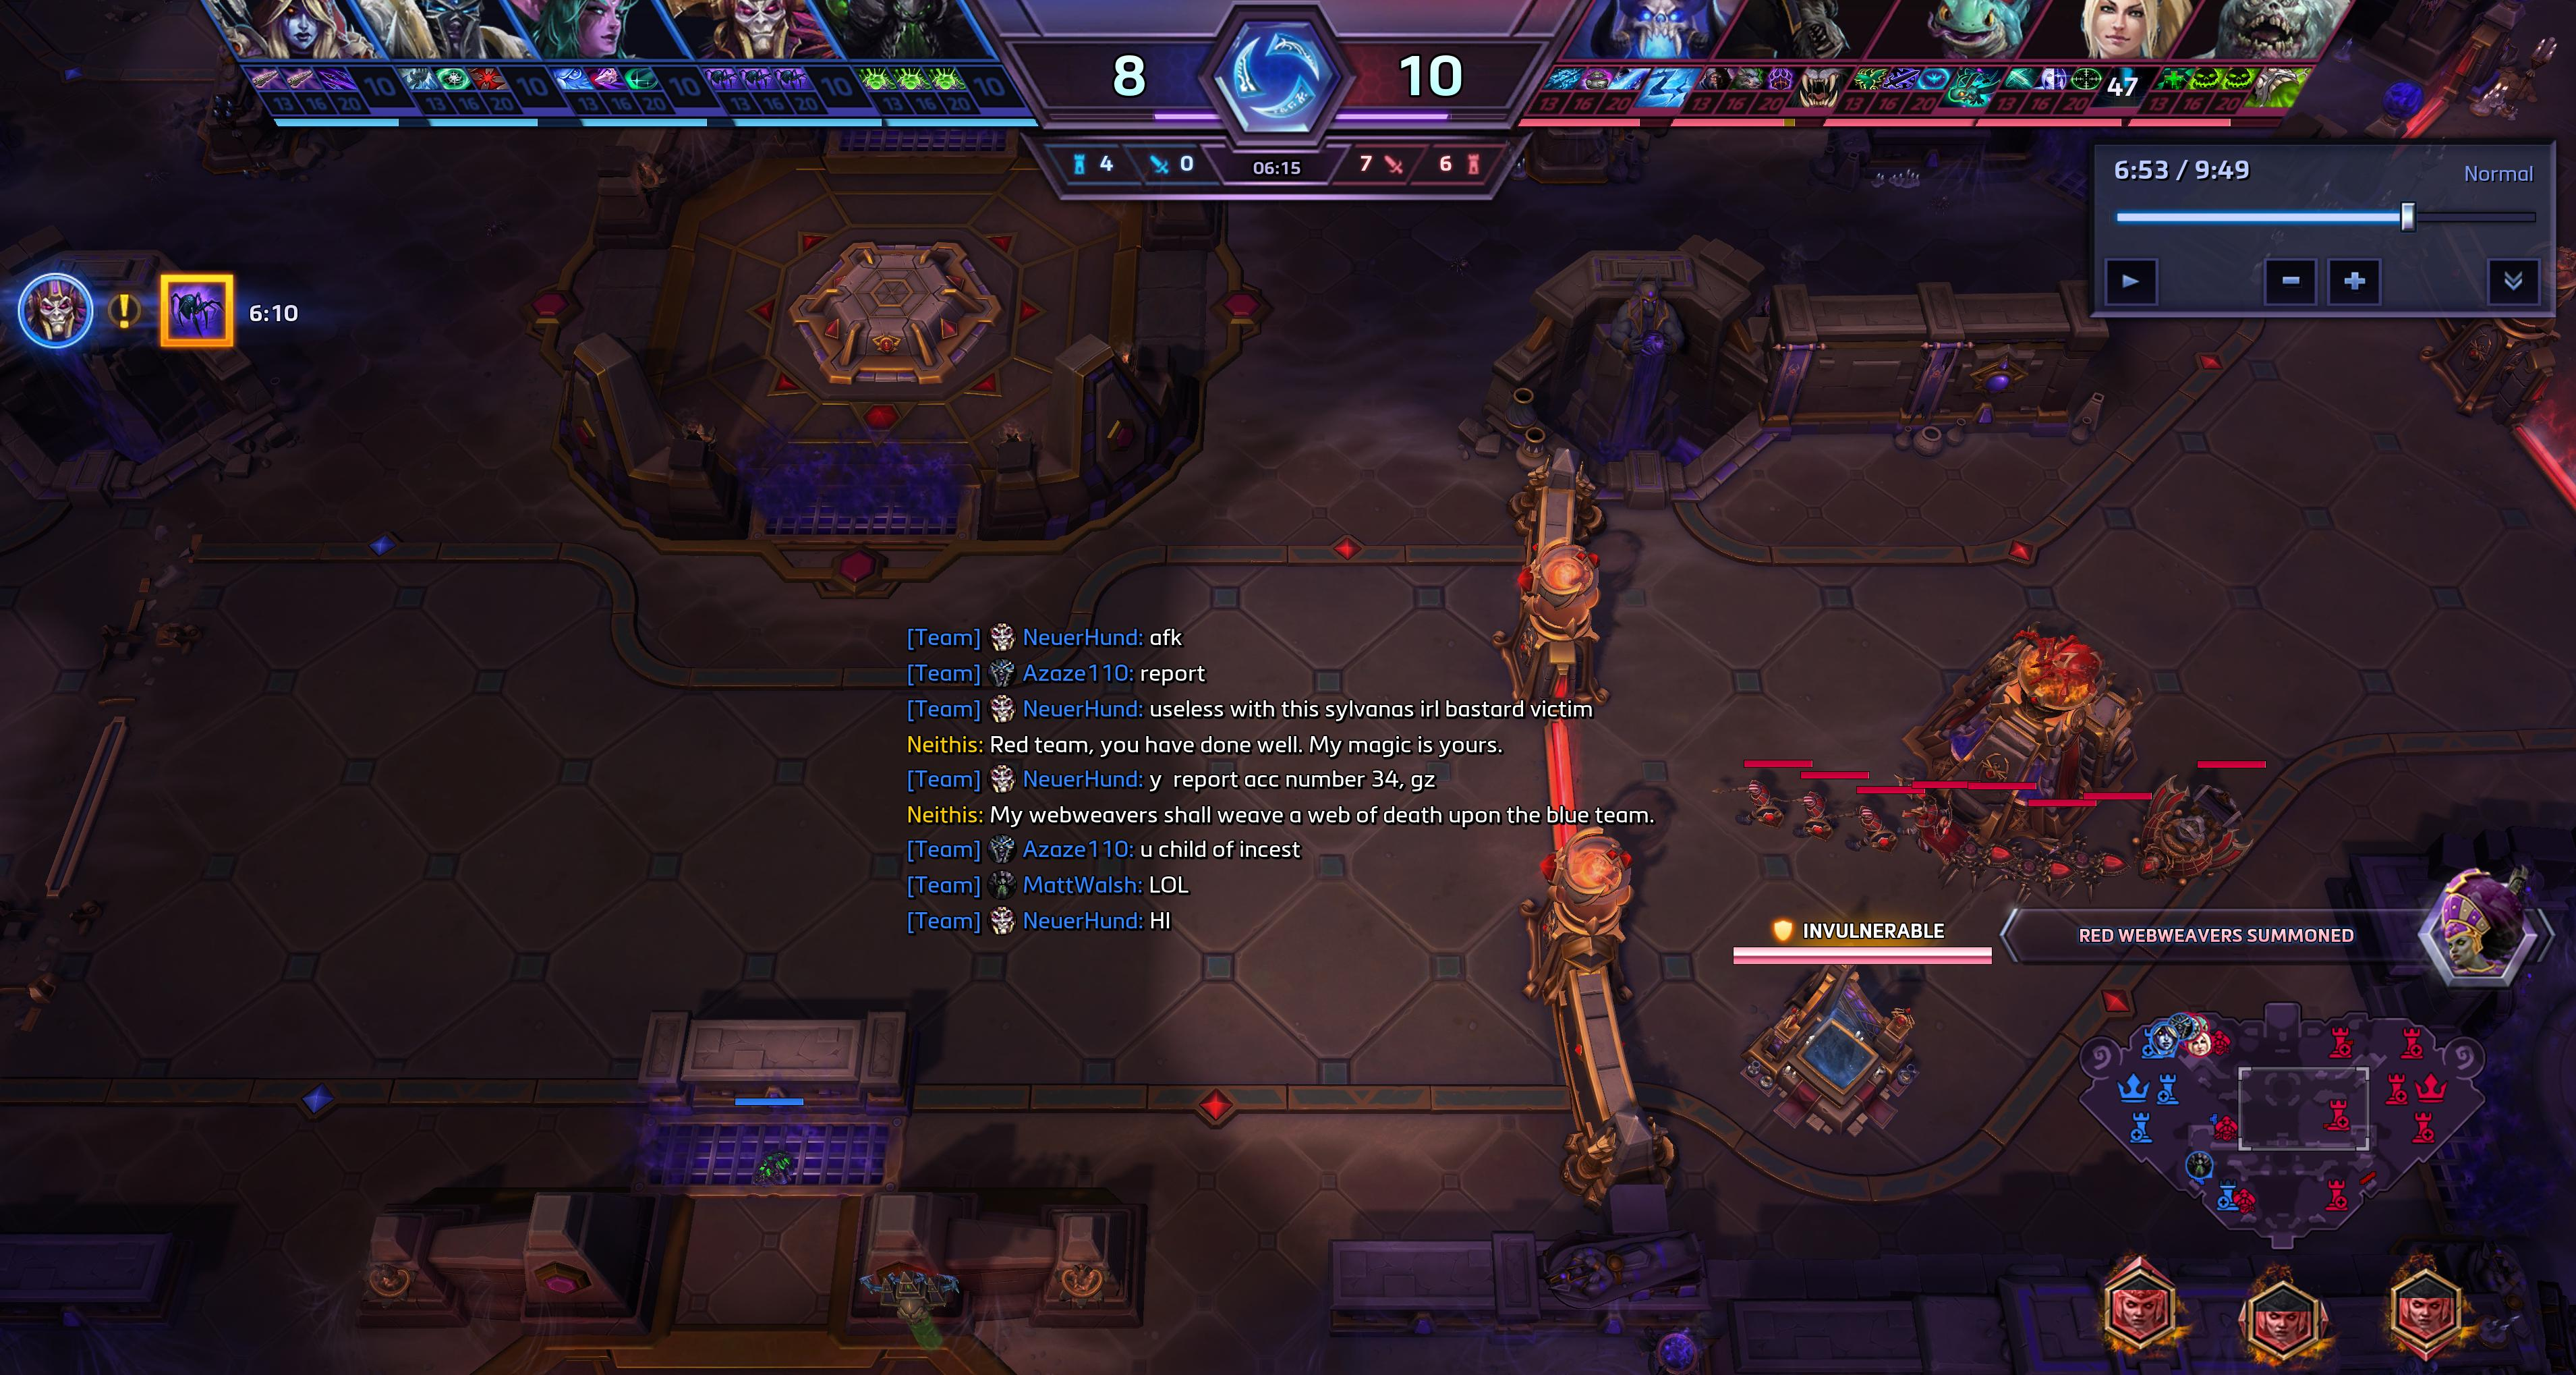blue player: (2140, 1019, 2179, 1058), (2118, 1071, 2151, 1101), (2184, 1148, 2214, 1180), (2215, 1180, 2240, 1210)
red player: (2181, 1015, 2224, 1057)
